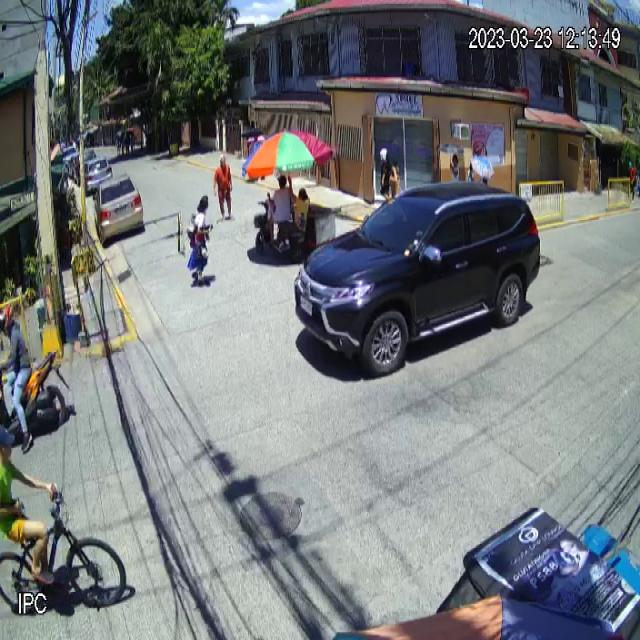Car: (293, 180, 542, 376), (92, 173, 143, 243)
